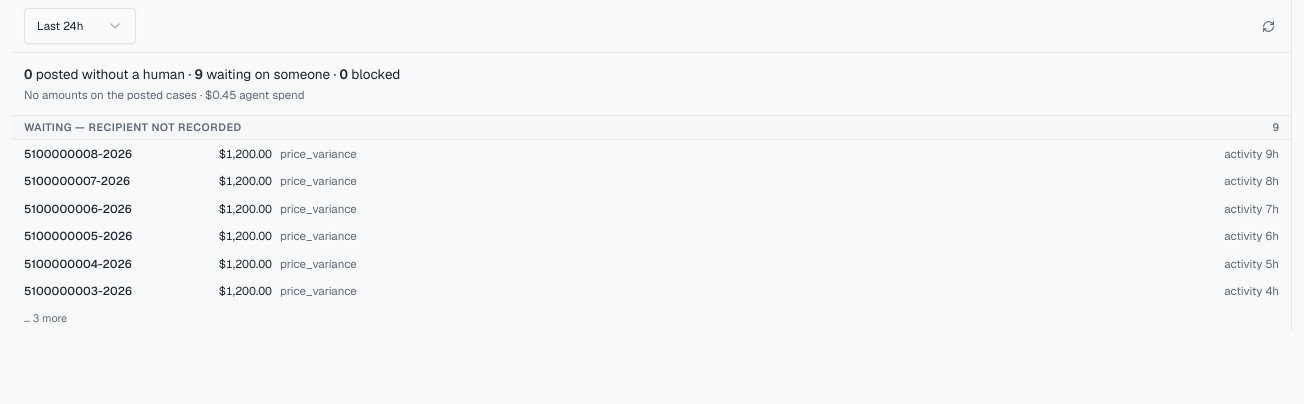
it: HandoverPanel rows › folds a long group behind a count and expands on request
Expected: the number of elements titled "Since we last touched the case" is 6, [1224,146,1279,161]; [1224,174,1279,188]; [1224,201,1279,216]; [1224,228,1279,244]; [1224,256,1279,271]; [1224,284,1279,298]
Click the button "… 3 more" at x=28, y=318, box [12,307,1291,330]
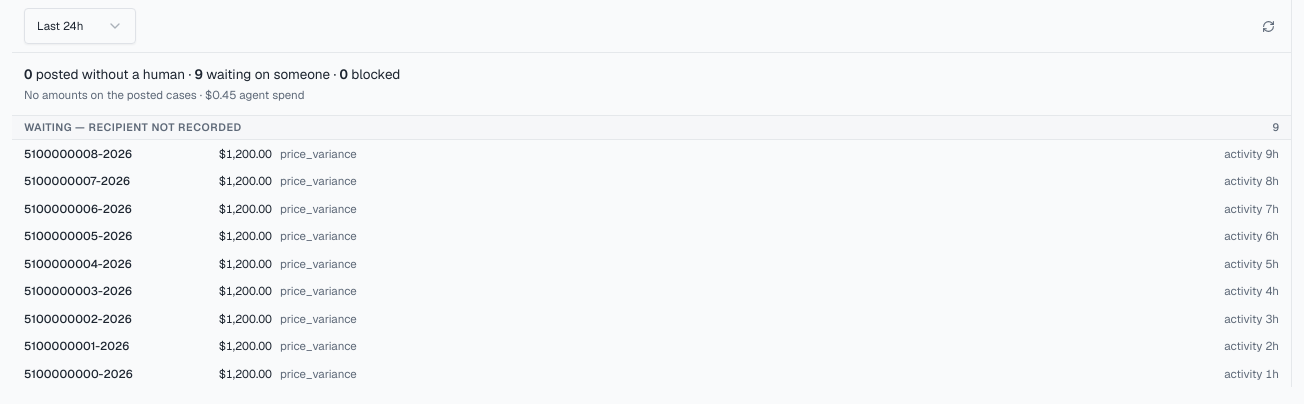
Now the number of elements titled "Since we last touched the case" is 9
